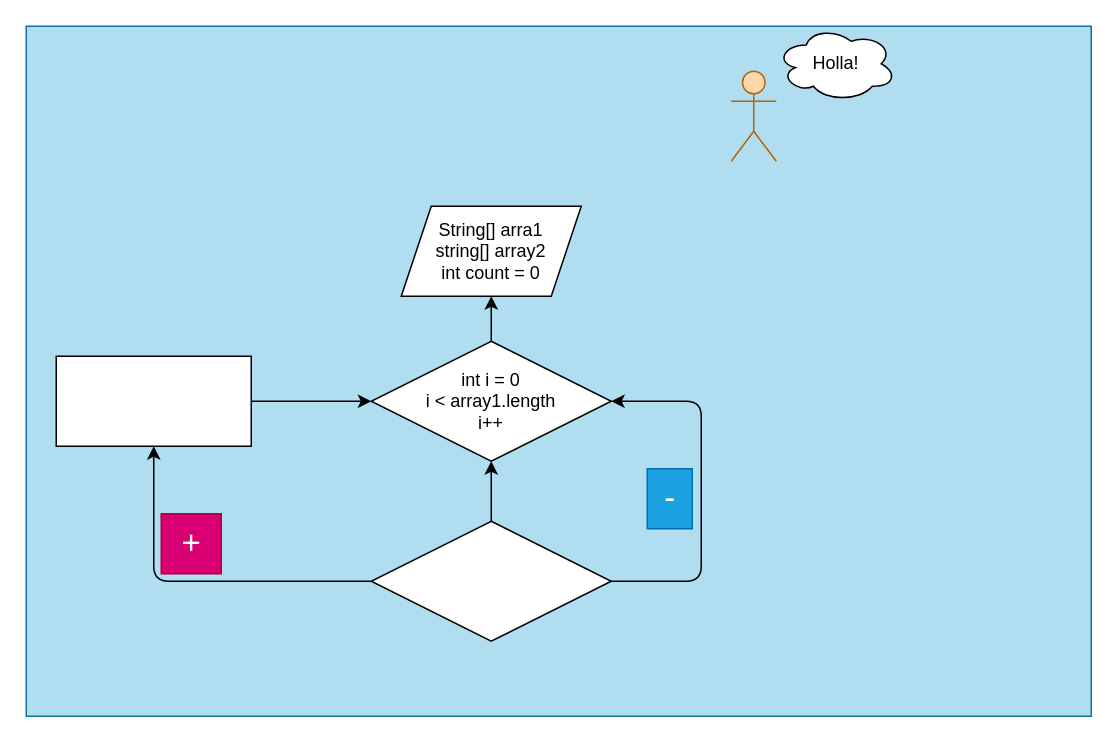
Some shapes in this 1118 by 743 pixel diagram are drawn without their labels. The centre of each missing label's shape, as x and y in pixels:
arra2[count[ = array 1[i] count ++: point 153,400
array1[i].length <=3: point 490,580
